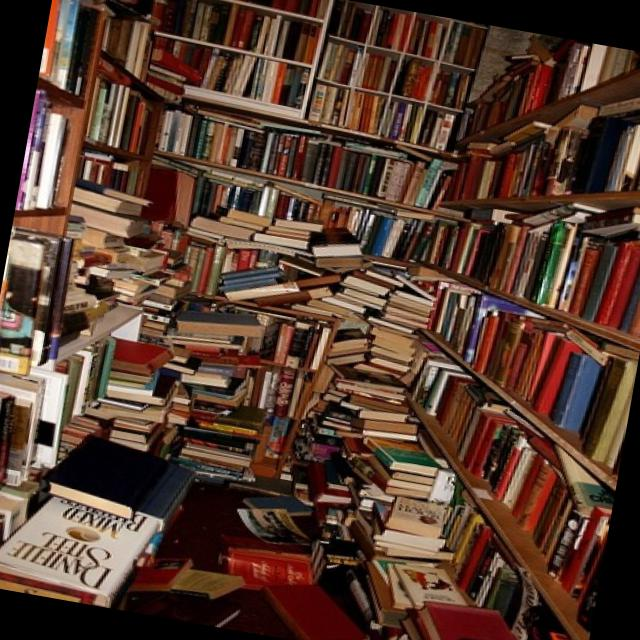book case: (0, 490, 160, 606), (39, 430, 175, 518), (257, 581, 368, 640), (124, 554, 193, 588), (241, 494, 309, 517)
bookcase crop: (96, 0, 492, 421), (389, 25, 640, 640)
books crop: (156, 97, 454, 211), (142, 157, 442, 262), (433, 202, 640, 334), (295, 270, 434, 463), (261, 265, 391, 462), (290, 430, 449, 586), (167, 310, 292, 498), (437, 476, 569, 640), (459, 91, 640, 200), (59, 333, 194, 458), (183, 202, 363, 278), (155, 34, 307, 107), (318, 39, 473, 109), (0, 225, 70, 377), (304, 81, 458, 150), (342, 555, 464, 640), (158, 0, 319, 62), (209, 256, 340, 302), (384, 597, 517, 640), (45, 0, 98, 91), (138, 44, 201, 87)
floor -X: (0, 369, 542, 640)
